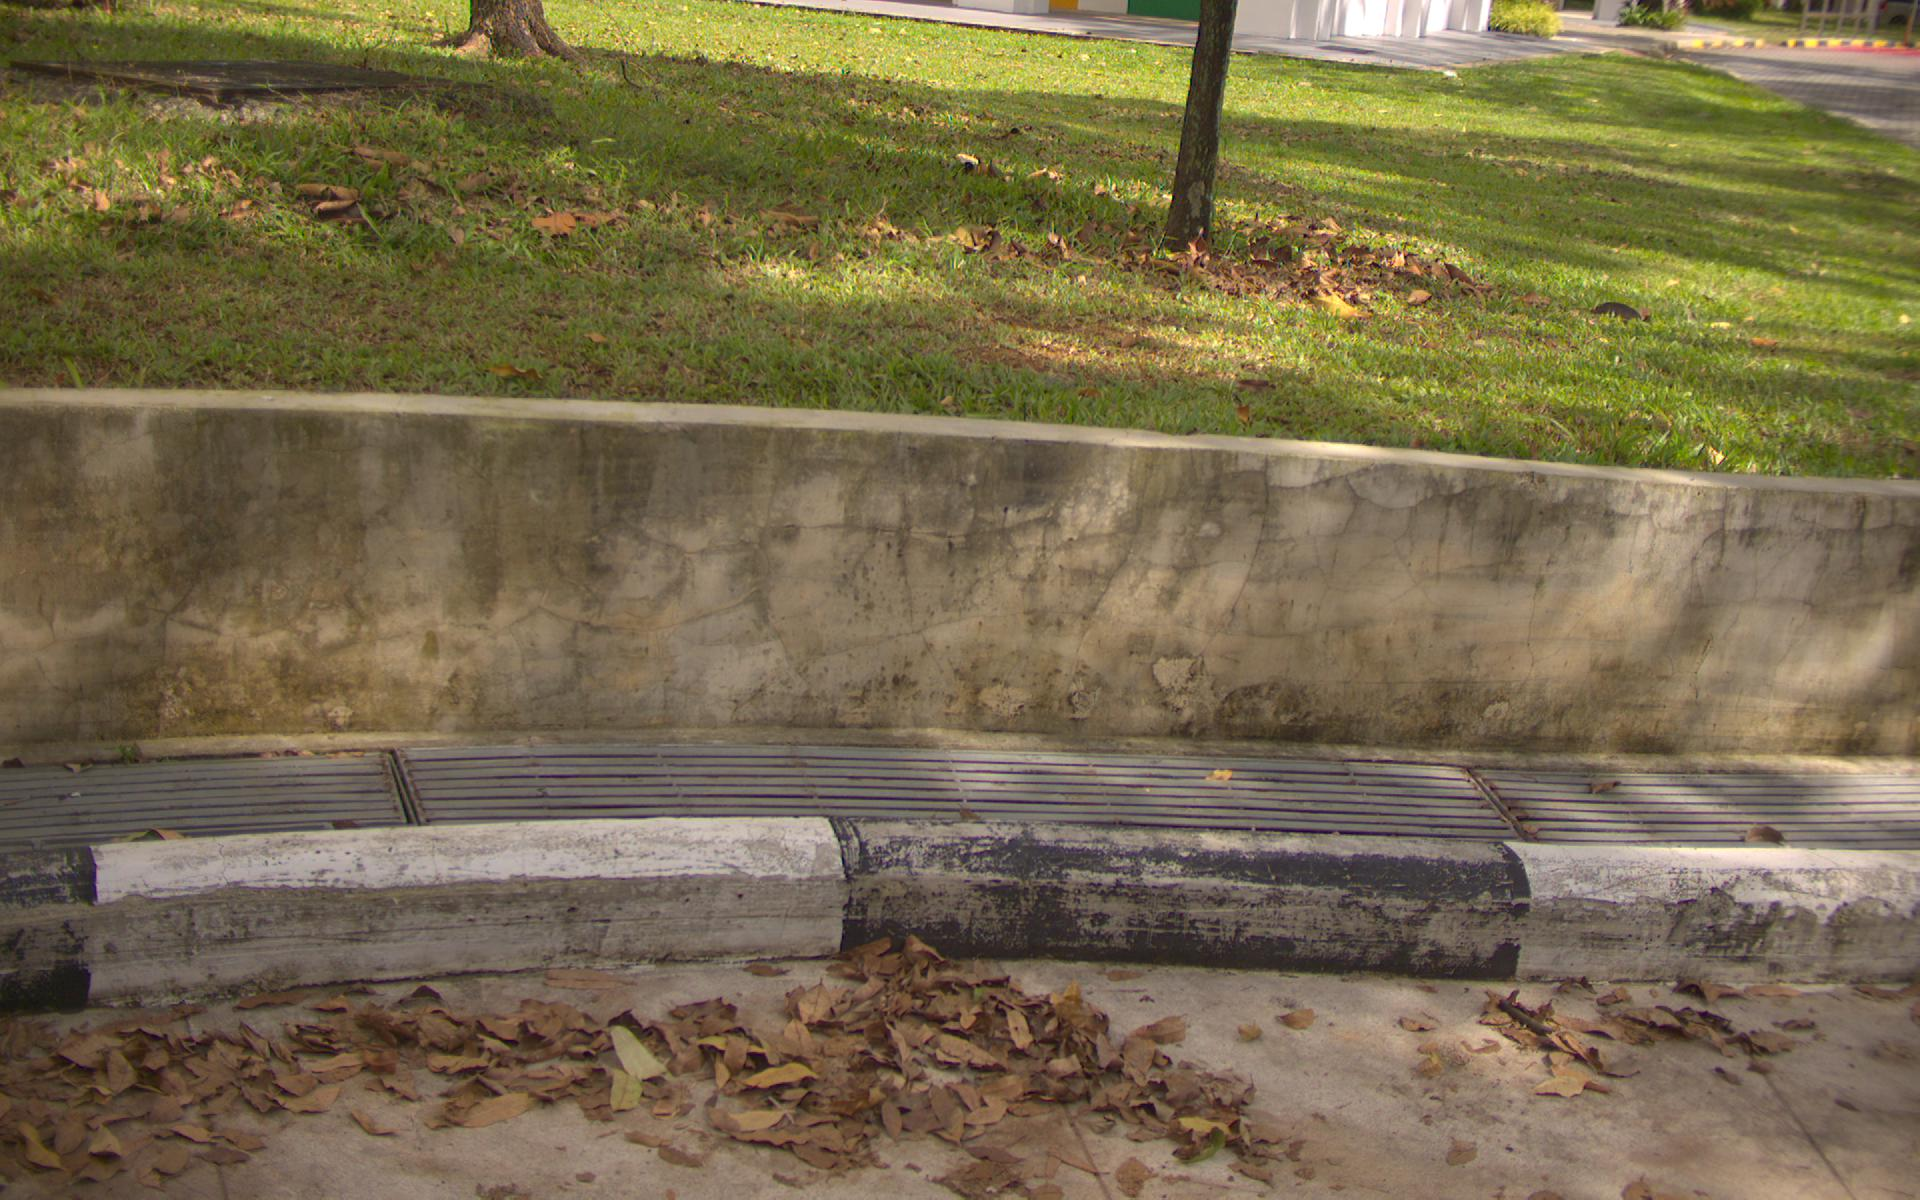curb_dic_low: (391, 724, 1920, 832)
road_curb_medium: (256, 977, 1920, 1200)
road_turf_low: (50, 77, 1758, 379)
